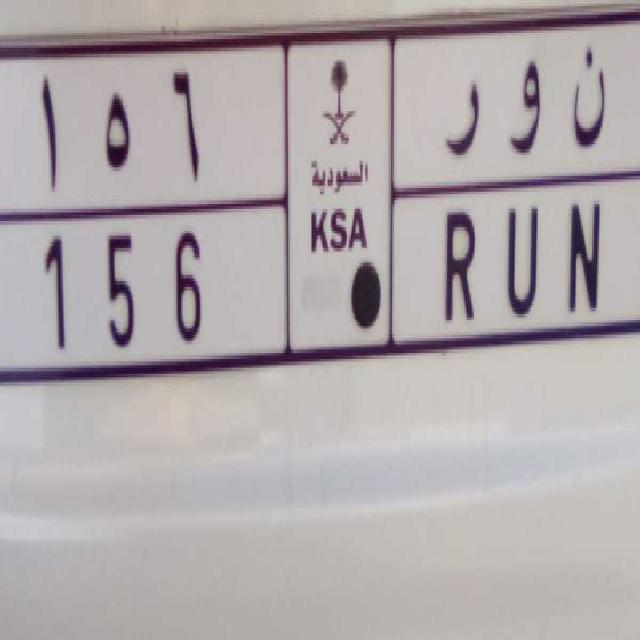license_plate: (41, 184, 632, 360)
